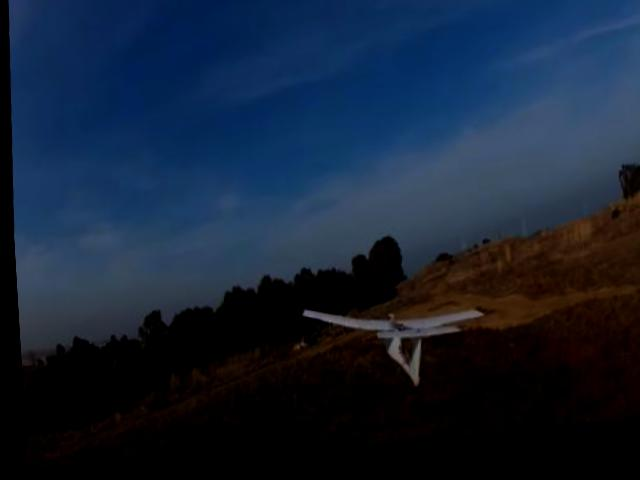uav: (289, 290, 488, 417)
